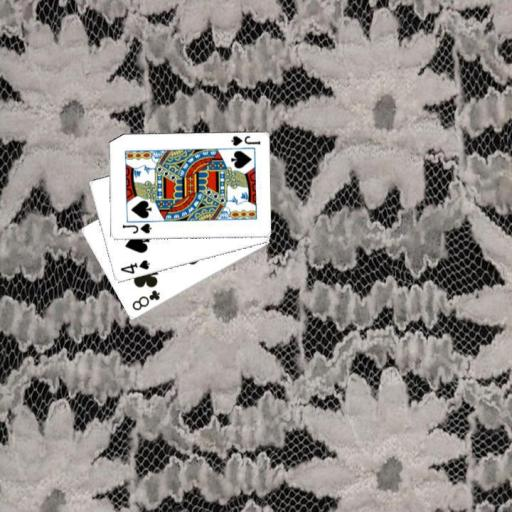4S: (117, 257, 151, 276)
8C: (129, 287, 161, 312)
JS: (119, 221, 153, 236), (228, 133, 261, 147)
